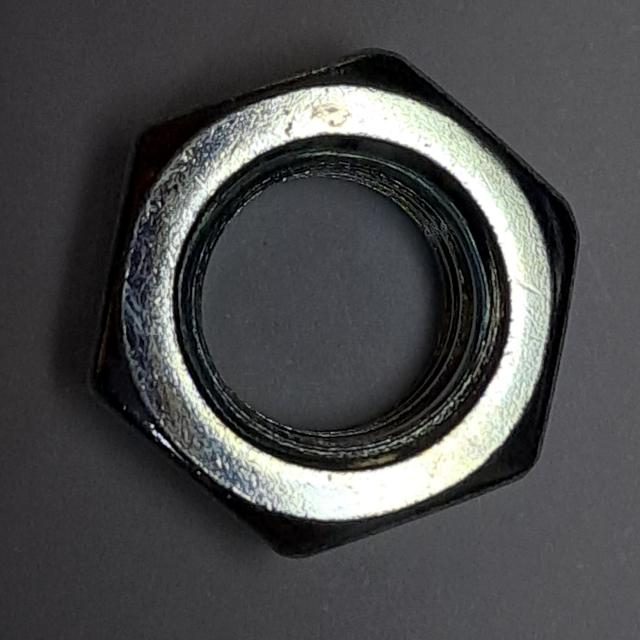Excellent: (74, 42, 589, 570)
